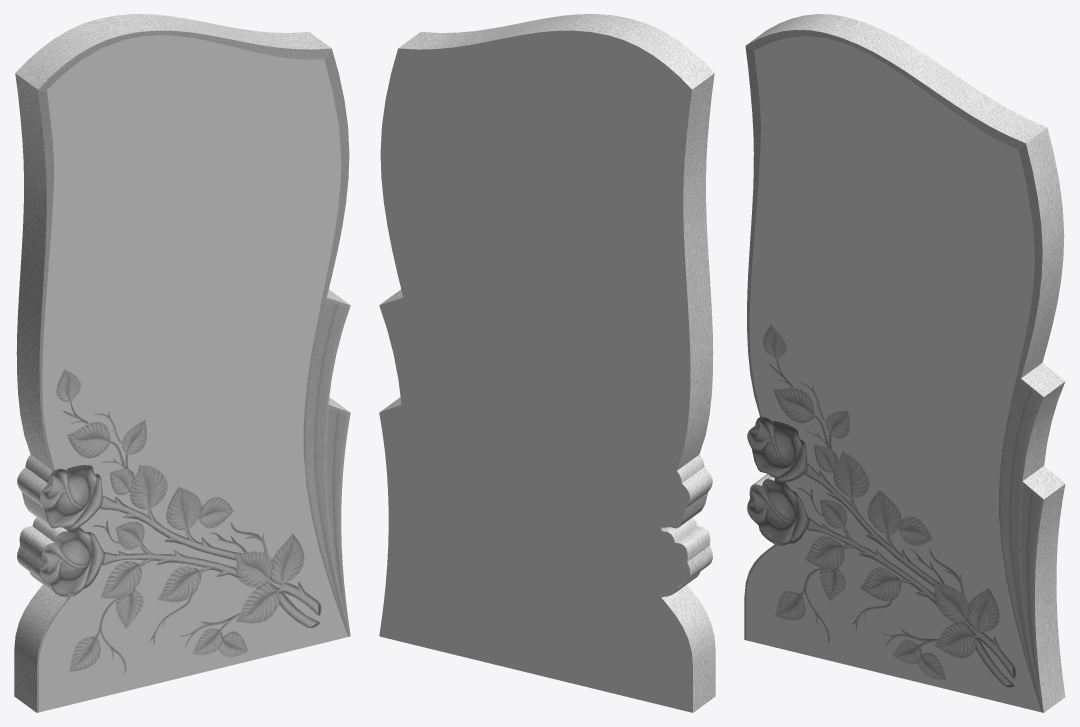
Rendered from cnbfe50ebd9a_tkf.glb.
3 views of the same model, side by side, from view 1: azimuth 30°, elevation 25°; view 2: azimuth 150°, elevation 25°; view 3: azimuth 330°, elevation 25° (orthographic). The views are drawn at different scales.
Visible parts, largest first — view 1: Pam-d03-167, Pam-d03-167_2_notexture; view 2: Pam-d03-167, Pam-d03-167_2_notexture; view 3: Pam-d03-167, Pam-d03-167_2_notexture.
Boxes of the visible parts, left/top/right/bottom form: Pam-d03-167: left=39, top=35, right=347, bottom=712; Pam-d03-167_2_notexture: left=14, top=14, right=350, bottom=712; Pam-d03-167: left=379, top=30, right=692, bottom=712; Pam-d03-167_2_notexture: left=380, top=14, right=715, bottom=712; Pam-d03-167: left=746, top=36, right=1041, bottom=712; Pam-d03-167_2_notexture: left=744, top=14, right=1065, bottom=712.
Size of the model in its own units: 0.4 by 0.8 by 0.05.
1 material, 1 textured.
